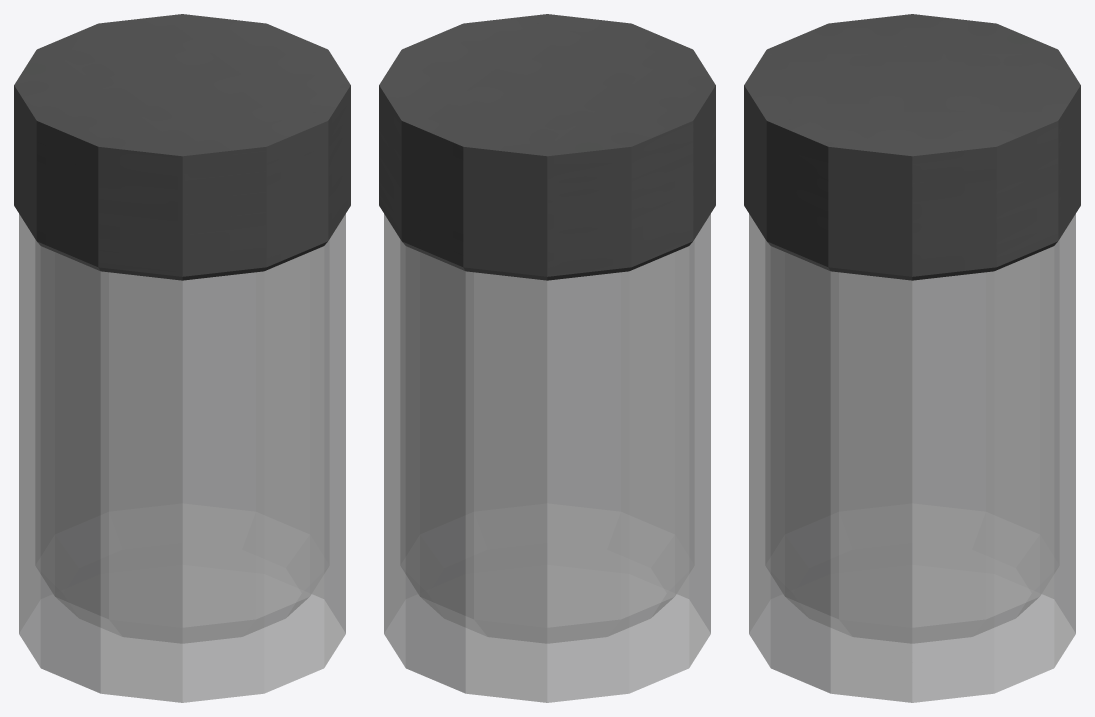
Rendered from SM_Tiaoliao_03.fbx.
3 views of the same model, side by side, from view 1: azimuth 30°, elevation 25°; view 2: azimuth 150°, elevation 25°; view 3: azimuth 270°, elevation 25° (orthographic).
Parts seen in each view (by area): view 1: SM_Tiaoliao_03, SM_Gaizi; view 2: SM_Tiaoliao_03, SM_Gaizi; view 3: SM_Tiaoliao_03, SM_Gaizi.
Boxes of the visible parts, bbox=[...] form: SM_Tiaoliao_03: bbox=[19, 214, 345, 702]; SM_Gaizi: bbox=[14, 14, 350, 280]; SM_Tiaoliao_03: bbox=[384, 214, 710, 702]; SM_Gaizi: bbox=[379, 14, 715, 280]; SM_Tiaoliao_03: bbox=[749, 214, 1075, 702]; SM_Gaizi: bbox=[744, 14, 1080, 280].
Size of the model in its own units: 7.2 by 12.95 by 7.2.
